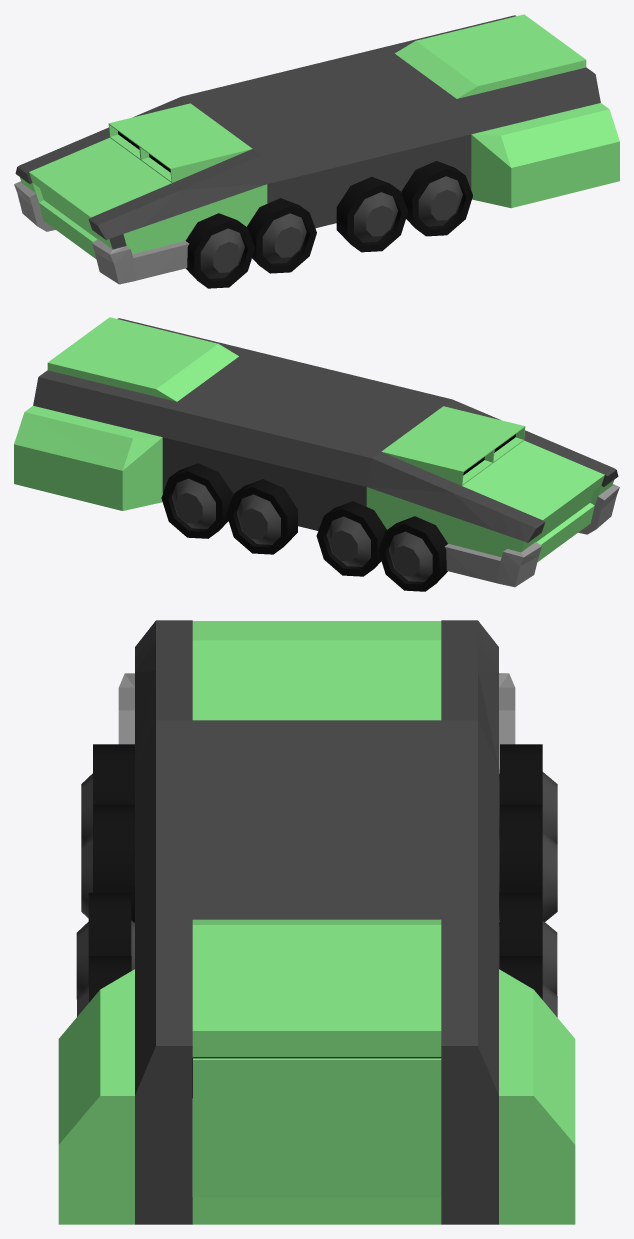
File: APC.FBX
3 views of the same model, one above another, from view 1: azimuth 30°, elevation 25°; view 2: azimuth 150°, elevation 25°; view 3: azimuth 270°, elevation 25° (orthographic). The views are drawn at different scales.
Parts seen in each view (by area): view 1: APCFrame, Tire28, Tire24, Tire31, Tire25; view 2: APCFrame, Tire29, Tire04, Tire30, Tire23; view 3: APCFrame, Box002, Tire23, Tire25, Tire29, Tire28, Tire30, Tire31, Tire24, Tire04.
Boxes of the visible parts, box(x1,y1,x2,y2) form: APCFrame: box(14, 14, 619, 284); Tire28: box(336, 176, 408, 252); Tire24: box(401, 161, 472, 236); Tire31: box(185, 213, 254, 288); Tire25: box(247, 198, 316, 273); APCFrame: box(14, 317, 619, 587); Tire29: box(226, 479, 297, 554); Tire04: box(161, 463, 232, 538); Tire30: box(378, 516, 447, 591); Tire23: box(316, 501, 386, 576); APCFrame: box(58, 620, 575, 1224); Box002: box(193, 1058, 441, 1197); Tire23: box(499, 804, 557, 921); Tire25: box(81, 804, 134, 922); Tire29: box(499, 892, 557, 995); Tire28: box(76, 892, 134, 999); Tire30: box(499, 744, 557, 844); Tire31: box(81, 744, 134, 843); Tire24: box(77, 956, 131, 1016); Tire04: box(500, 956, 557, 1017).
Bounding box in the file's own units: 201 × 44.64 × 90.02.
